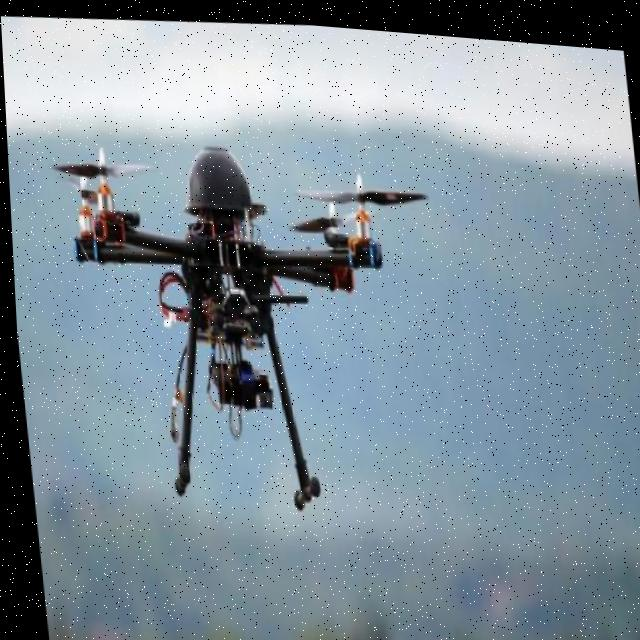drones: (13, 103, 505, 622)
